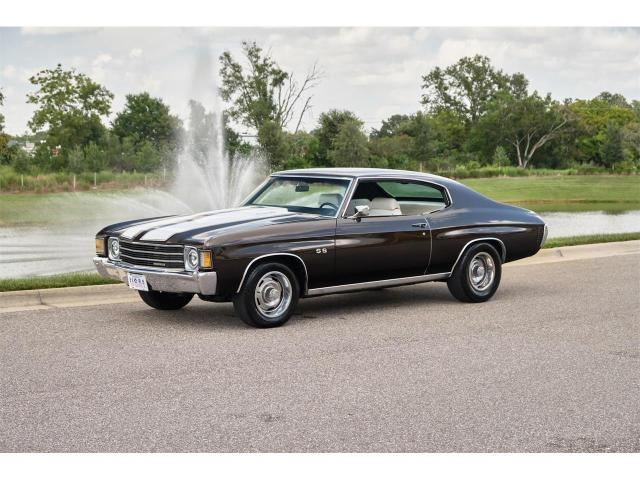chevelle-1972: (93, 168, 548, 327)
